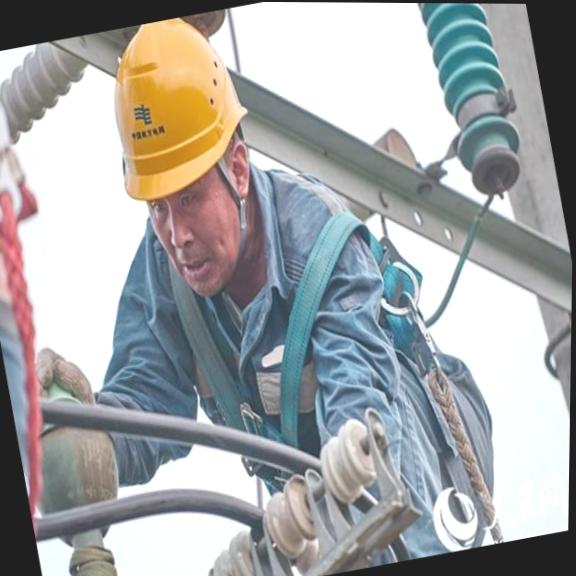no_safety_vest: (171, 215, 415, 550)
